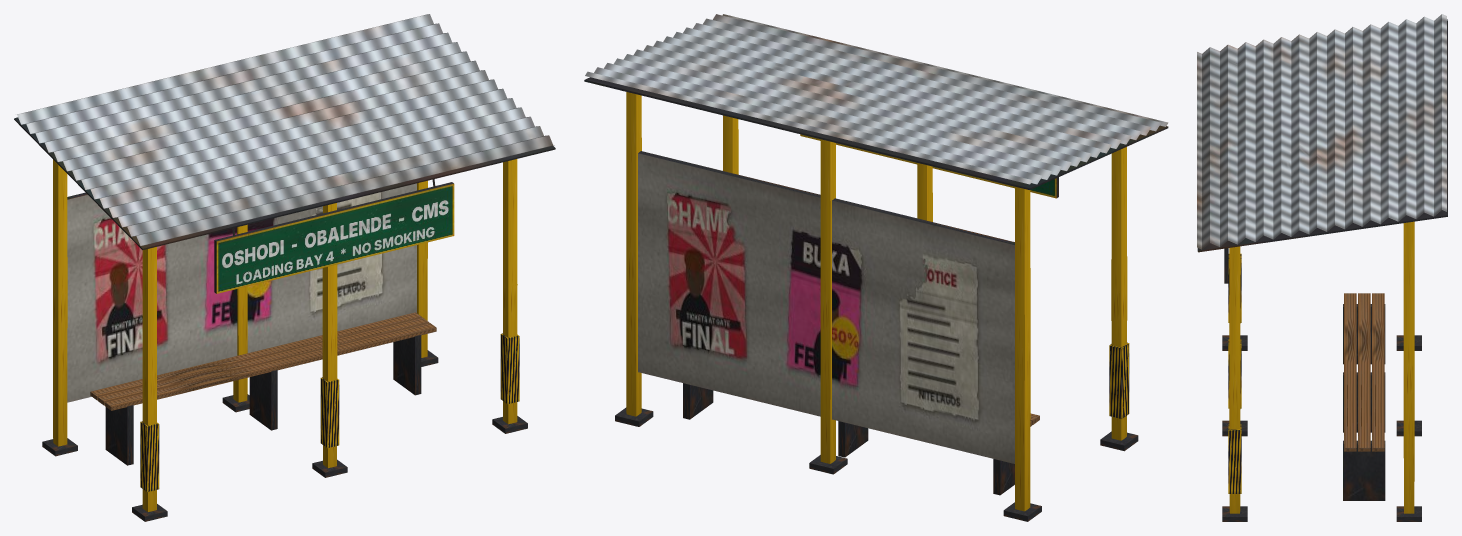
Rendered from bp_shelter.glb.
The picture shows the model from 3 angles, left to right: view 1: azimuth 30°, elevation 25°; view 2: azimuth 150°, elevation 25°; view 3: azimuth 270°, elevation 25°; orthographic projection. The views are drawn at different scales.
Visible parts, largest first — view 1: bp_shelter_body; view 2: bp_shelter_body; view 3: bp_shelter_body.
Boxes of the visible parts, x1,y1,x2,y2 form: bp_shelter_body: [14, 14, 555, 521]; bp_shelter_body: [584, 14, 1168, 521]; bp_shelter_body: [1197, 14, 1447, 521].
Bounding box in the file's own units: 3.3 × 2.51 × 1.78.
Materials: 1 (1 with a texture image).
